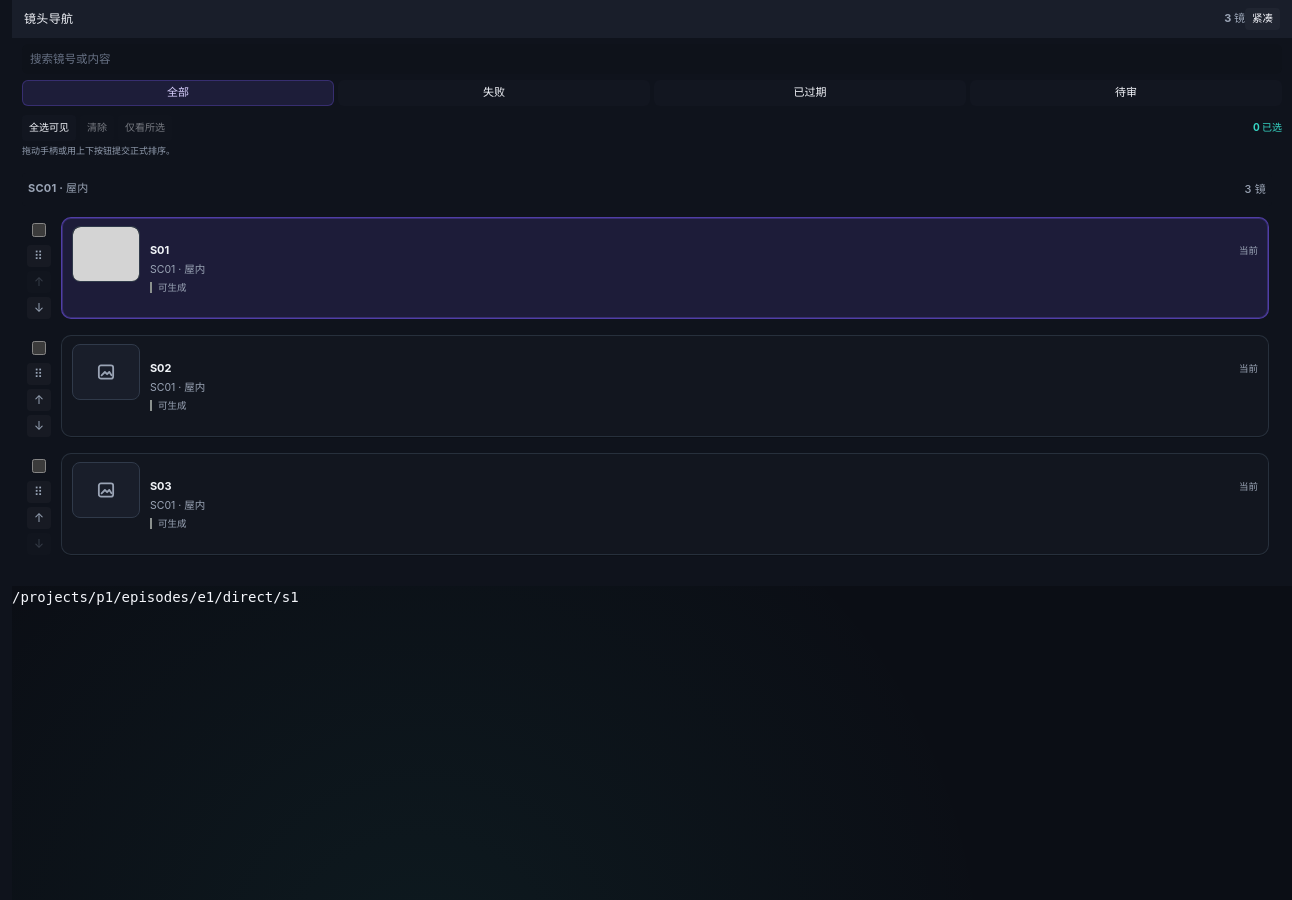
Scenario: ShotNavigator › keeps previews on thumbnail endpoints and exposes honest selected-shot destinations
Click the checkbox named "选择镜头 S01".
click(39, 230)  # box [32,223,46,237]
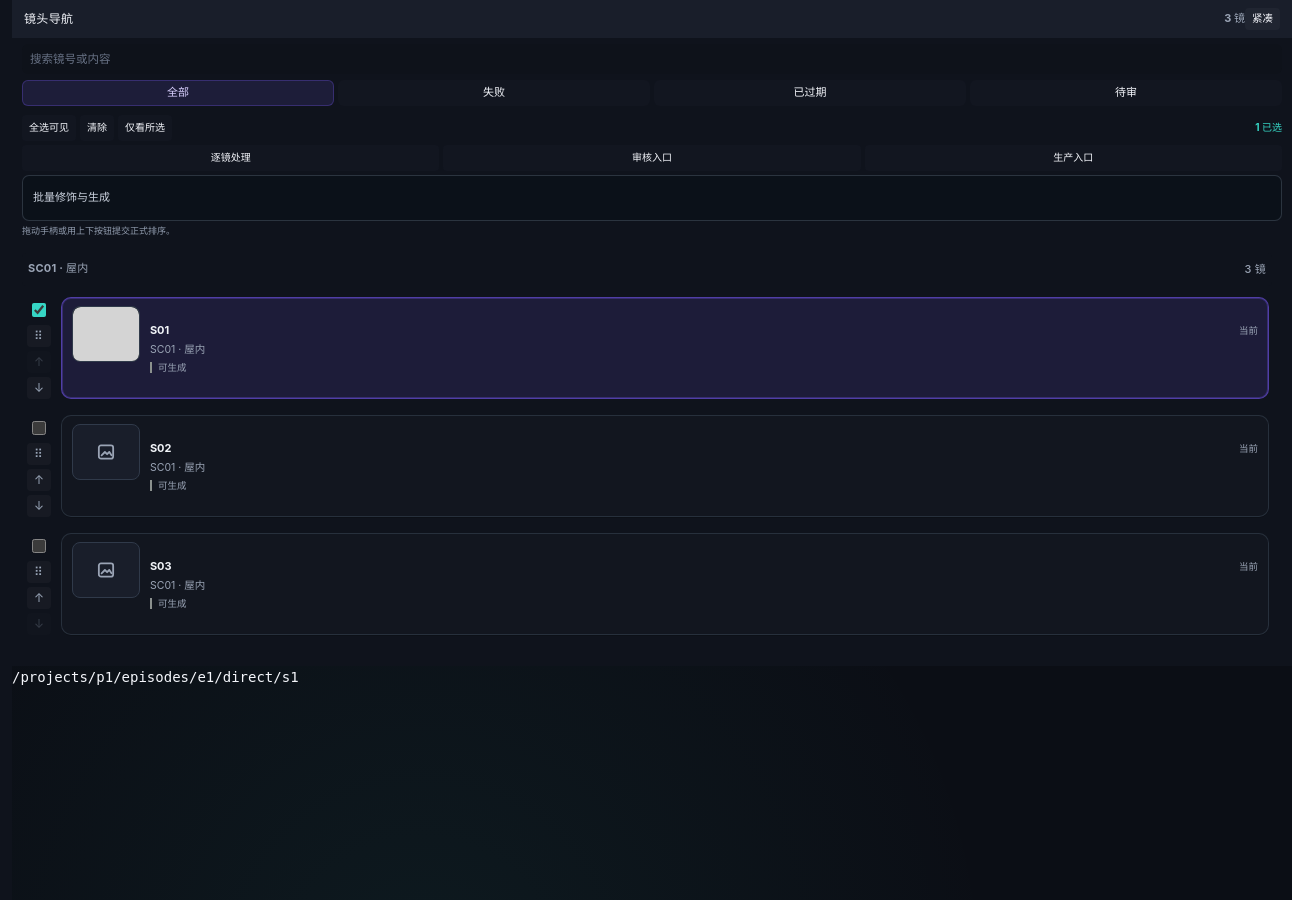
Click the checkbox named "选择镜头 S02".
click(39, 428)  # box [32,421,46,435]
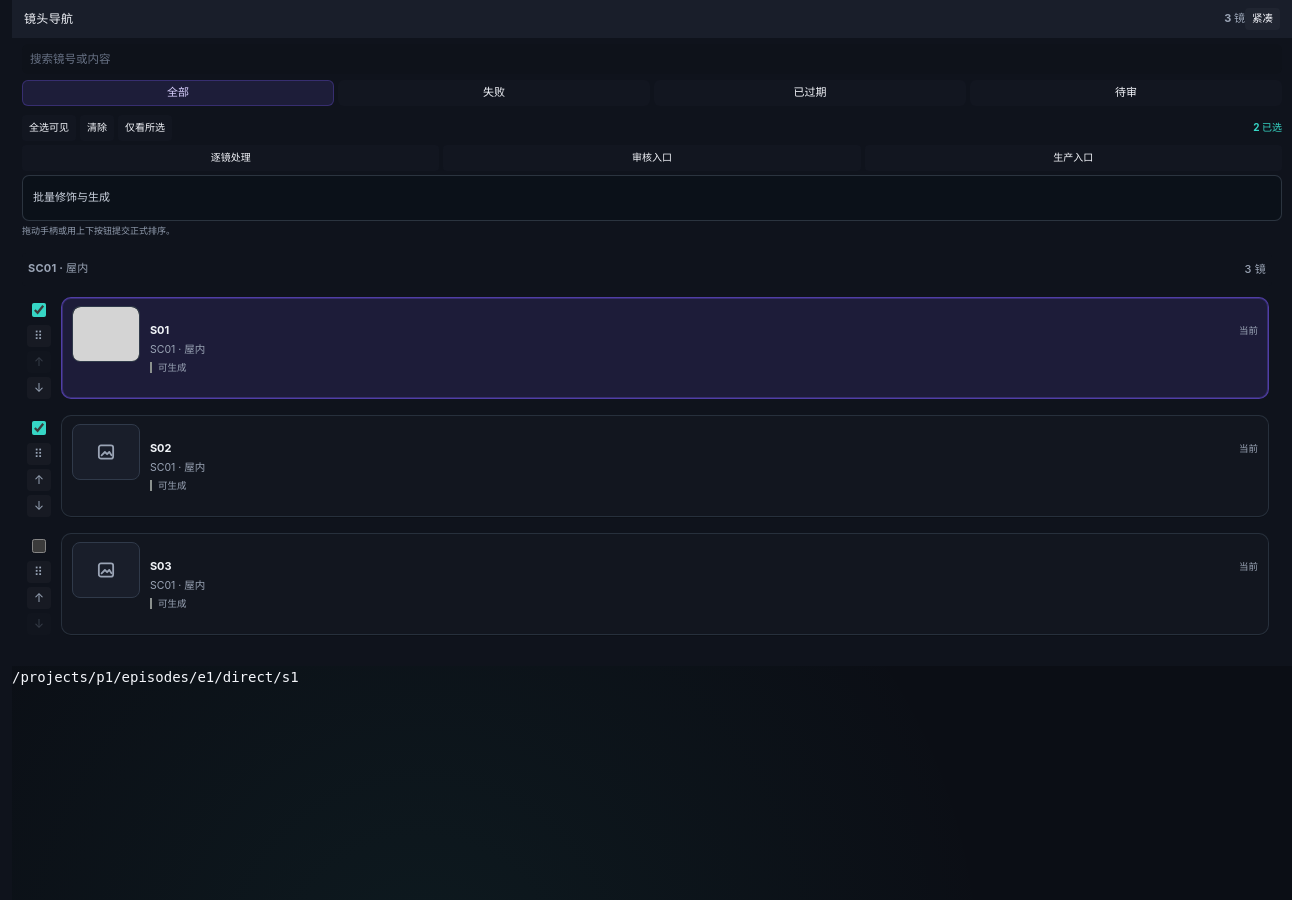
Now the text "2 已选" is shown, box [1253,120,1282,136]
